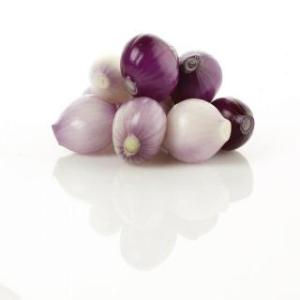onion: (163, 92, 230, 168), (122, 32, 179, 102), (52, 95, 114, 157), (112, 100, 168, 166), (174, 49, 224, 108), (209, 98, 255, 154), (86, 50, 126, 106)
